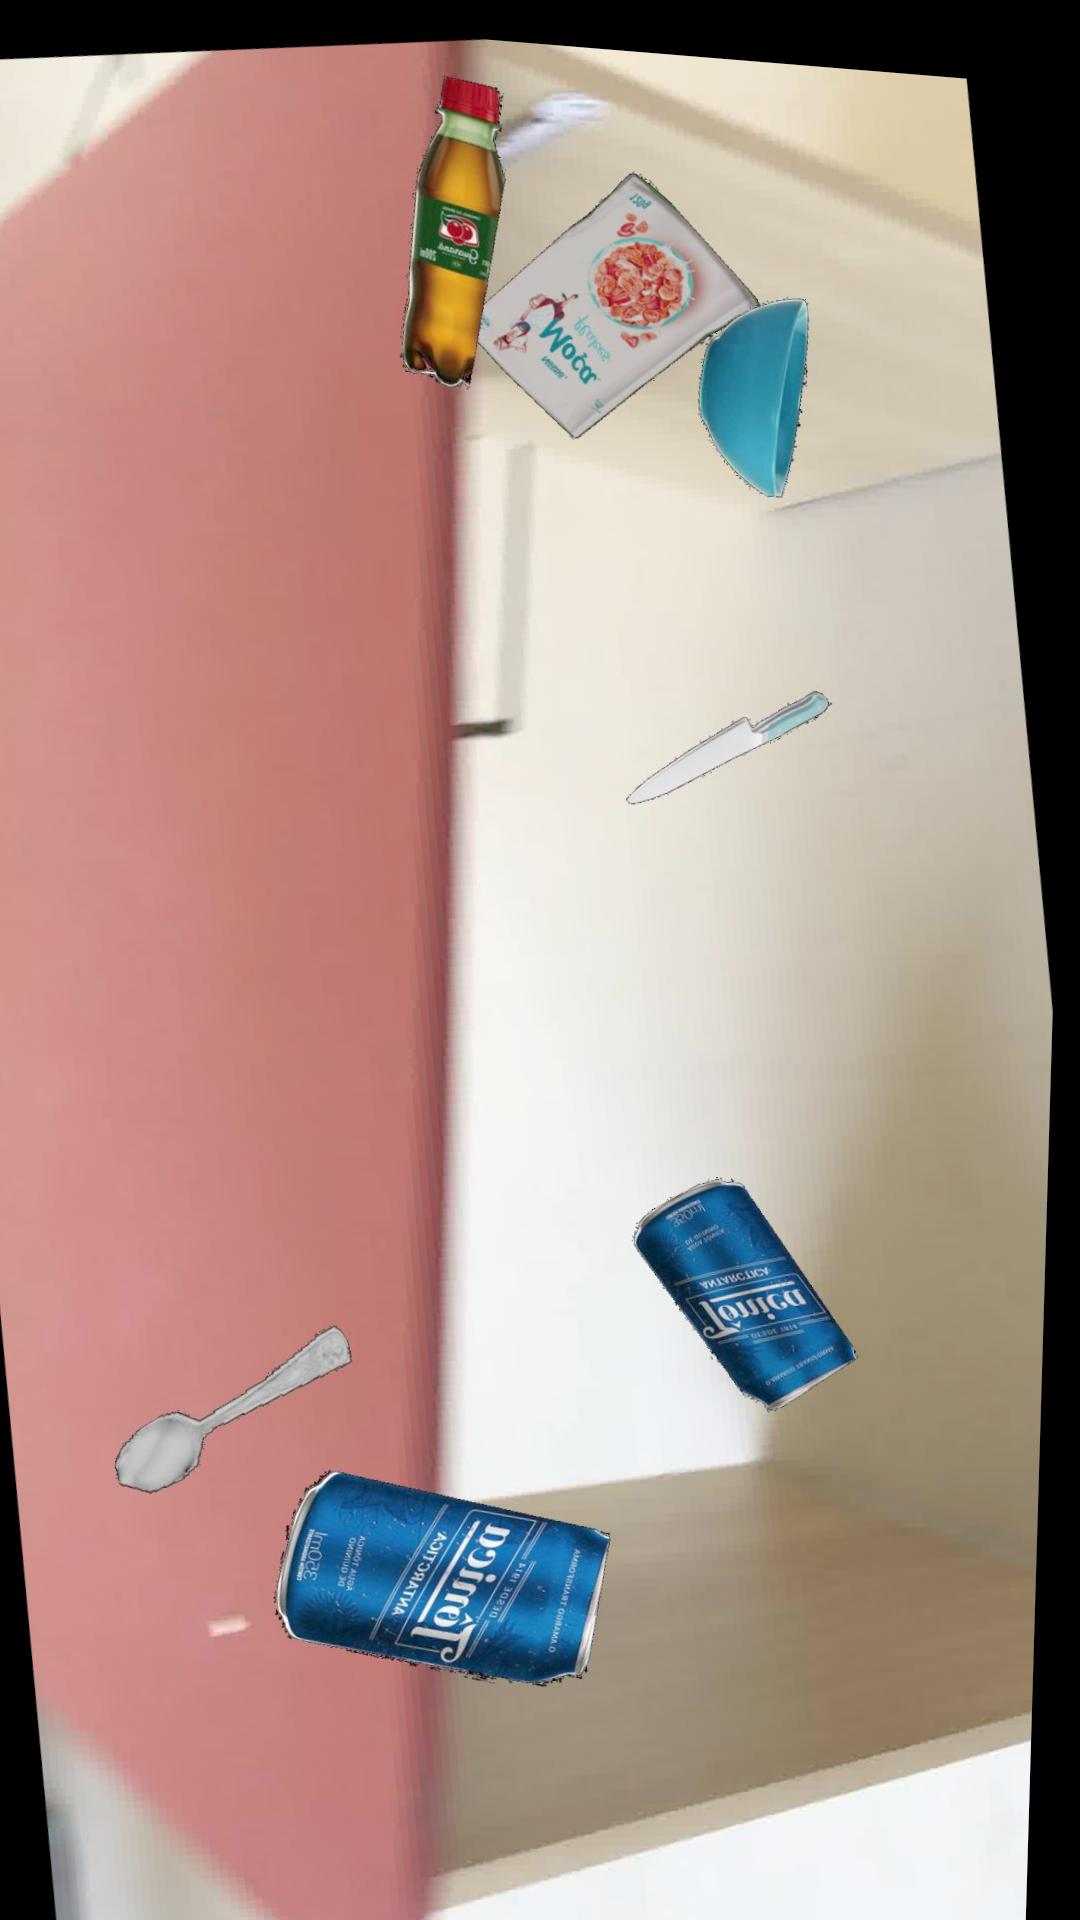bowl: (702, 282, 811, 481)
corn flakes: (481, 160, 764, 426)
guarana: (404, 66, 508, 377)
knife: (632, 675, 835, 791)
spoon: (125, 1317, 361, 1487)
tonic: (286, 1461, 621, 1675), (642, 1163, 866, 1394)
